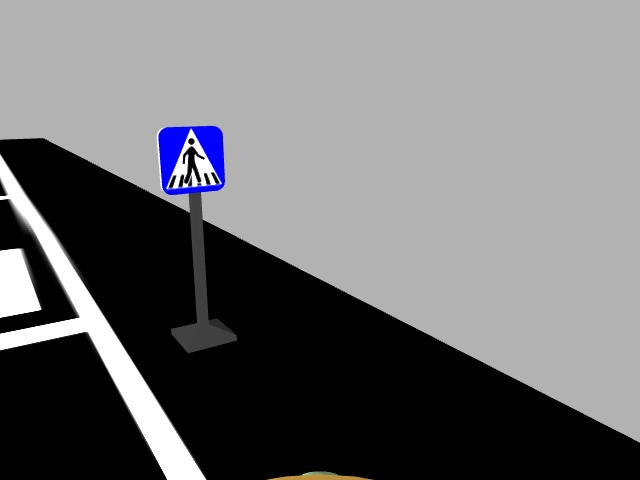Crosswalk: (153, 125, 230, 193)
